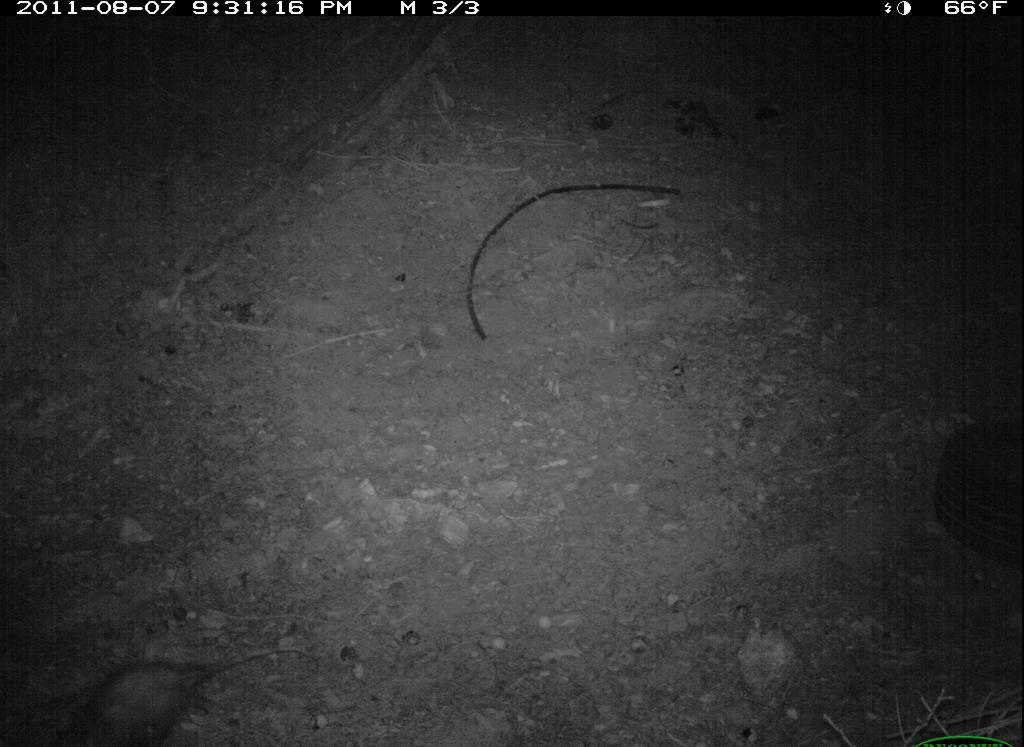opossum: (33, 635, 321, 747)
